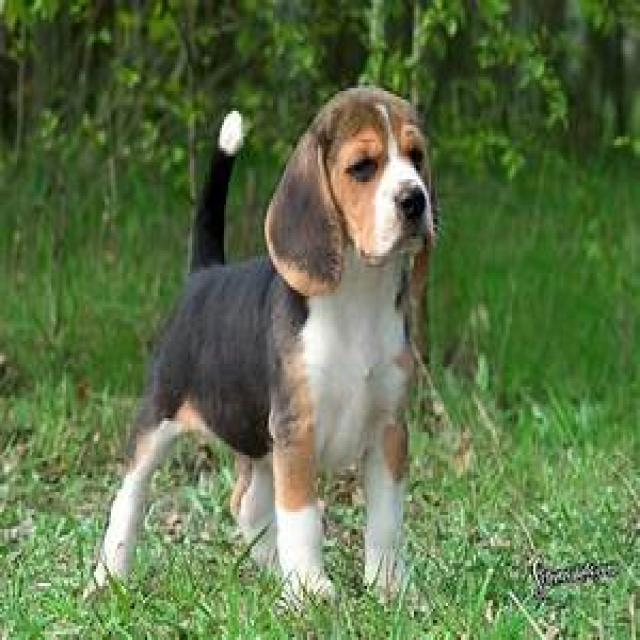animal: (81, 82, 440, 614)
